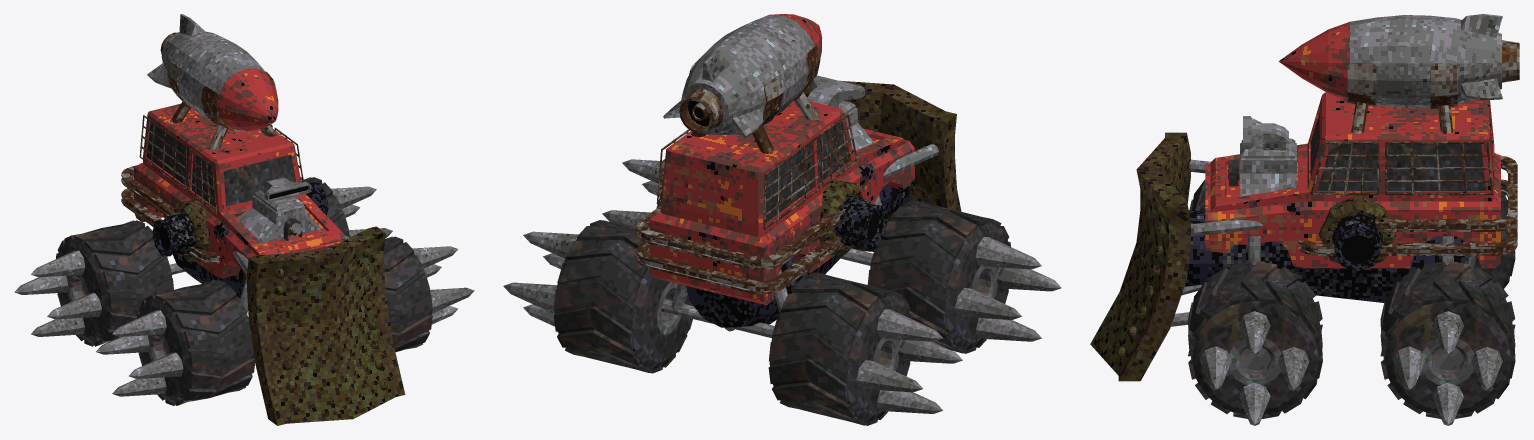
File: player_truck_new_upgrades.fbx
3 views of the same model, side by side, from view 1: azimuth 30°, elevation 25°; view 2: azimuth 150°, elevation 25°; view 3: azimuth 270°, elevation 25° (orthographic). The views are drawn at different scales.
Visible parts, largest first — view 1: Plane, Cube, Cylinder, Cylinder.001, Cylinder.006, Cylinder.002, Cylinder.012, Cylinder.011, Cylinder.003, Cube.001, Cylinder.013, Cylinder.007 (+5 smaller); view 2: Cube, Cylinder.001, Cylinder.005, Cylinder, Cylinder.006, Plane, Cylinder.011, Cylinder.012, Cylinder.017, Cylinder.003, Plane.001, Plane.002 (+6 smaller); view 3: Cube, Cylinder.006, Cylinder.002, Cylinder.005, Plane, Cylinder.017, Cylinder.004, Cylinder.013, Cylinder.014, Cube.001, Cylinder.007, Plane.001 (+4 smaller).
Part boxes in pixels (x1,y1,x2,y2): Plane: (247, 226, 405, 425); Cube: (134, 103, 345, 279); Cylinder: (137, 280, 255, 405); Cylinder.001: (56, 220, 173, 346); Cylinder.006: (147, 14, 278, 130); Cylinder.002: (384, 236, 432, 352); Cylinder.012: (96, 310, 183, 396); Cylinder.011: (14, 250, 101, 336); Cylinder.003: (152, 200, 210, 261); Cube.001: (139, 115, 303, 213); Cylinder.013: (412, 246, 474, 324); Cylinder.007: (167, 61, 277, 150); Cube: (649, 75, 914, 305); Cylinder.001: (768, 272, 912, 425); Cylinder.005: (553, 220, 693, 373); Cylinder: (867, 200, 1010, 353); Cylinder.006: (663, 14, 822, 137); Plane: (804, 80, 961, 251); Cylinder.011: (856, 309, 962, 413); Cylinder.012: (955, 237, 1061, 341); Cylinder.017: (686, 184, 910, 327); Cylinder.003: (819, 180, 887, 255); Plane.001: (636, 195, 858, 269); Plane.002: (636, 236, 843, 294); Cube: (1205, 92, 1500, 268); Cylinder.006: (1279, 14, 1519, 107); Cylinder.002: (1188, 261, 1322, 419); Cylinder.005: (1380, 261, 1515, 418); Plane: (1090, 132, 1190, 381); Cylinder.017: (1184, 210, 1470, 302); Cylinder.004: (1319, 195, 1396, 271); Cylinder.013: (1200, 311, 1309, 425); Cylinder.014: (1393, 311, 1502, 425); Cube.001: (1310, 141, 1493, 195); Cylinder.007: (1347, 63, 1457, 133); Plane.001: (1334, 155, 1517, 231).
Size of the model in its own units: 738 by 578 by 669.
8 materials, 7 textured.
